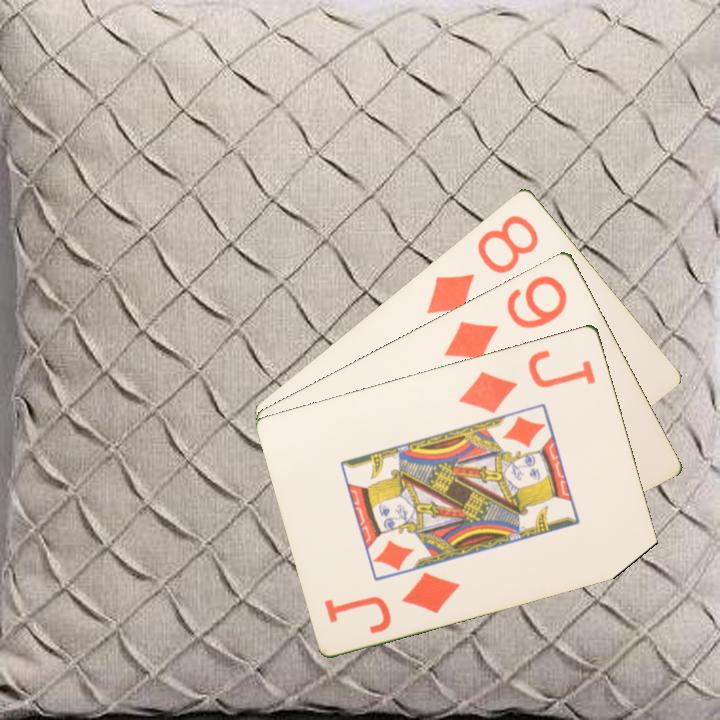8d: (423, 210, 542, 317)
9d: (440, 271, 571, 363)
Jd: (455, 345, 599, 416), (321, 567, 464, 637)
